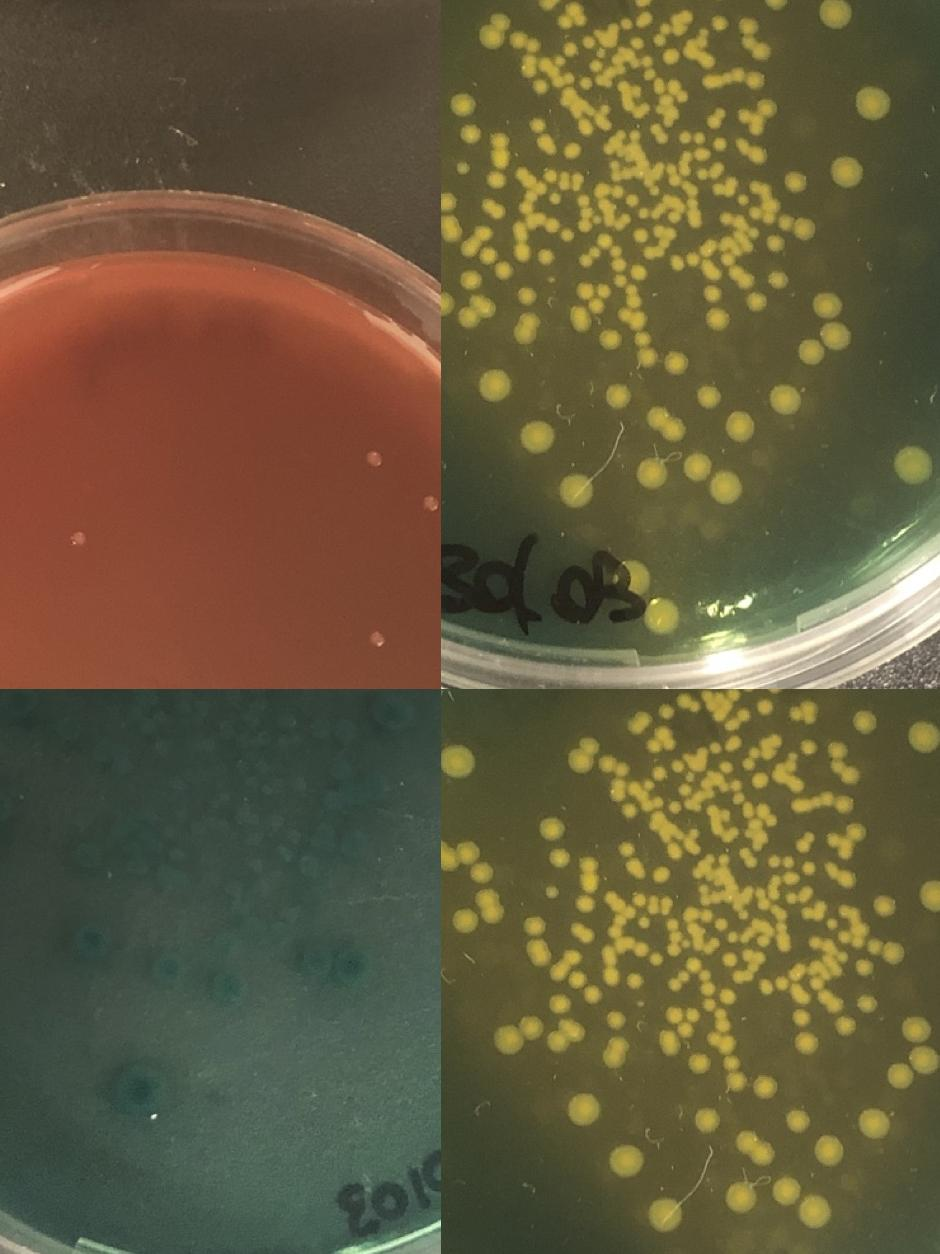pddamselae: (117, 1068, 153, 1106), (216, 972, 246, 1004), (337, 950, 367, 982), (300, 940, 330, 972), (374, 700, 404, 731), (74, 842, 104, 871), (340, 830, 370, 859), (153, 954, 183, 982), (77, 926, 107, 954), (4, 689, 34, 712), (307, 716, 332, 740), (336, 720, 360, 744), (60, 716, 84, 740), (0, 793, 12, 835)
pdpiscicida: (366, 628, 388, 650), (64, 528, 86, 550), (362, 447, 384, 469), (420, 493, 441, 515)
vharveyi: (678, 760, 745, 811), (589, 36, 656, 86), (577, 185, 632, 232), (578, 234, 627, 286), (667, 958, 716, 1010), (666, 910, 721, 956), (799, 321, 850, 363), (888, 1045, 939, 1087), (495, 1016, 538, 1056), (513, 212, 560, 244), (602, 936, 649, 968), (747, 180, 780, 225), (836, 904, 869, 949), (604, 892, 636, 938), (774, 963, 808, 1004), (516, 168, 546, 214), (686, 239, 719, 280), (512, 32, 540, 78), (601, 756, 629, 802), (684, 26, 714, 68), (706, 1007, 734, 1052), (772, 750, 802, 792), (618, 282, 645, 328), (642, 224, 676, 260), (647, 407, 683, 440), (736, 1131, 772, 1164), (732, 949, 765, 984), (458, 298, 494, 327), (547, 1022, 583, 1051), (441, 841, 478, 869), (610, 1144, 642, 1176), (780, 214, 816, 242), (700, 690, 730, 723), (869, 939, 905, 966), (513, 310, 539, 347), (832, 155, 863, 186), (614, 562, 646, 592), (522, 420, 552, 452), (723, 410, 753, 442), (544, 169, 584, 193), (812, 1134, 842, 1166), (633, 893, 673, 917), (475, 888, 502, 923), (602, 1034, 628, 1070), (769, 383, 799, 414), (479, 370, 509, 401), (460, 226, 490, 257), (549, 950, 579, 981), (441, 746, 471, 777), (710, 472, 742, 501), (856, 88, 888, 117), (897, 450, 927, 480), (812, 290, 842, 320), (858, 1108, 888, 1138), (568, 1094, 598, 1124), (900, 1014, 930, 1044), (636, 460, 668, 488), (561, 475, 591, 504), (650, 1199, 680, 1228), (800, 1196, 830, 1225), (908, 723, 938, 752), (726, 1184, 757, 1212), (568, 739, 595, 771), (646, 602, 676, 630), (480, 15, 506, 47), (819, 0, 849, 27), (791, 791, 833, 810), (636, 332, 657, 369), (702, 68, 744, 86), (725, 1056, 746, 1092), (686, 185, 701, 228), (775, 910, 790, 952), (920, 879, 940, 910), (451, 92, 476, 116), (539, 816, 564, 840), (832, 760, 858, 783), (698, 385, 722, 409), (606, 384, 630, 408), (664, 350, 688, 374), (714, 175, 738, 199), (784, 170, 808, 194), (787, 1109, 811, 1133), (695, 1108, 719, 1132), (752, 1074, 776, 1098), (452, 908, 476, 932), (802, 899, 826, 923), (874, 894, 898, 918), (854, 710, 878, 734), (726, 707, 750, 731), (744, 35, 769, 58), (787, 883, 812, 906), (698, 160, 723, 182), (670, 11, 692, 36), (760, 735, 782, 760), (567, 1, 587, 28), (656, 725, 676, 752), (789, 701, 815, 721), (570, 923, 594, 944), (481, 200, 505, 220), (706, 806, 732, 824), (730, 268, 753, 288), (819, 992, 842, 1012), (618, 81, 642, 100), (667, 79, 686, 103), (757, 803, 776, 827), (654, 21, 671, 47), (743, 745, 760, 771), (678, 694, 699, 714), (636, 206, 662, 222), (740, 846, 757, 870), (687, 457, 707, 477), (570, 308, 590, 328), (747, 292, 767, 312), (702, 283, 722, 303), (460, 272, 480, 292), (722, 247, 742, 267), (460, 123, 480, 143), (776, 1181, 796, 1201), (836, 1016, 856, 1036), (791, 1007, 811, 1027), (549, 996, 569, 1016), (858, 994, 878, 1014), (854, 957, 874, 977), (527, 938, 547, 958), (725, 930, 750, 946), (524, 916, 544, 936), (754, 886, 770, 911), (549, 847, 569, 867), (652, 122, 668, 146), (599, 330, 618, 350), (769, 270, 788, 290), (659, 1032, 678, 1052), (811, 971, 830, 991), (708, 107, 726, 128), (679, 149, 692, 178), (554, 71, 576, 88), (642, 795, 664, 812), (665, 163, 681, 186), (648, 809, 664, 832), (768, 874, 781, 902), (707, 310, 727, 328), (766, 233, 784, 253), (604, 136, 622, 156), (688, 1054, 706, 1074), (796, 1034, 816, 1052), (810, 937, 834, 952), (471, 864, 491, 882), (797, 832, 815, 852), (559, 86, 575, 108), (441, 213, 458, 233), (721, 214, 745, 228), (694, 859, 710, 879), (723, 232, 745, 246), (812, 956, 834, 970), (441, 192, 455, 212), (606, 22, 619, 41), (764, 0, 788, 10), (696, 746, 708, 766), (564, 144, 578, 159), (650, 951, 664, 966), (579, 896, 593, 911), (840, 873, 854, 888), (626, 859, 640, 874), (589, 299, 603, 313), (519, 289, 533, 303), (632, 267, 646, 281), (496, 264, 510, 278), (538, 250, 552, 264), (515, 248, 529, 262), (633, 229, 647, 243), (561, 228, 575, 242), (748, 206, 762, 220), (626, 194, 640, 208), (737, 193, 751, 207), (546, 192, 560, 206), (490, 172, 504, 186), (494, 151, 508, 165), (751, 149, 765, 163), (537, 136, 551, 150), (493, 134, 507, 148), (760, 101, 774, 115), (558, 15, 572, 29), (637, 12, 651, 26), (678, 1023, 692, 1037), (608, 1013, 622, 1027), (686, 1006, 700, 1020), (721, 991, 735, 1005), (585, 988, 599, 1002), (627, 974, 641, 988), (570, 974, 584, 988), (604, 972, 618, 986), (722, 953, 736, 967), (826, 917, 840, 931), (583, 875, 597, 889), (653, 868, 667, 882), (582, 858, 596, 872), (618, 842, 632, 856), (849, 825, 863, 839), (752, 774, 766, 788), (726, 736, 740, 750), (635, 712, 649, 726), (579, 284, 592, 298), (670, 254, 683, 268), (456, 163, 470, 176), (663, 50, 677, 63), (742, 19, 755, 33), (636, 916, 649, 930), (622, 805, 636, 818), (837, 798, 850, 812), (647, 739, 660, 753), (760, 978, 772, 993), (546, 886, 558, 901), (628, 781, 640, 796), (653, 768, 665, 783), (660, 704, 672, 719), (598, 282, 610, 296), (482, 250, 494, 264), (612, 186, 624, 200), (647, 183, 659, 197), (611, 170, 623, 184), (696, 147, 708, 161), (714, 138, 726, 152), (693, 132, 705, 146), (579, 122, 591, 136), (530, 118, 542, 132), (598, 104, 610, 118), (661, 94, 673, 108), (580, 77, 592, 91), (748, 74, 760, 88), (539, 58, 551, 72), (554, 55, 566, 69), (564, 44, 576, 58), (583, 36, 595, 50), (637, 0, 661, 7), (668, 1008, 680, 1022), (838, 930, 850, 944), (716, 918, 728, 932), (701, 910, 713, 924), (736, 907, 748, 921), (700, 894, 712, 908), (785, 871, 797, 885), (803, 862, 815, 876), (782, 856, 794, 870), (668, 846, 680, 860), (687, 828, 699, 842), (750, 818, 762, 832), (669, 800, 681, 814), (643, 779, 655, 793), (672, 760, 684, 774), (832, 743, 844, 757), (758, 700, 770, 714), (828, 834, 840, 847), (802, 741, 814, 754), (711, 741, 723, 754), (744, 242, 756, 254), (669, 210, 681, 222), (737, 140, 749, 152), (678, 132, 690, 144), (751, 122, 763, 134), (739, 110, 751, 122), (653, 82, 665, 94), (534, 82, 546, 94), (713, 18, 725, 30), (622, 18, 634, 30), (833, 966, 845, 978), (836, 952, 848, 964), (758, 934, 770, 946), (826, 864, 838, 876), (767, 856, 779, 868), (840, 846, 852, 858), (742, 806, 754, 818), (747, 228, 759, 239), (728, 689, 740, 700)
